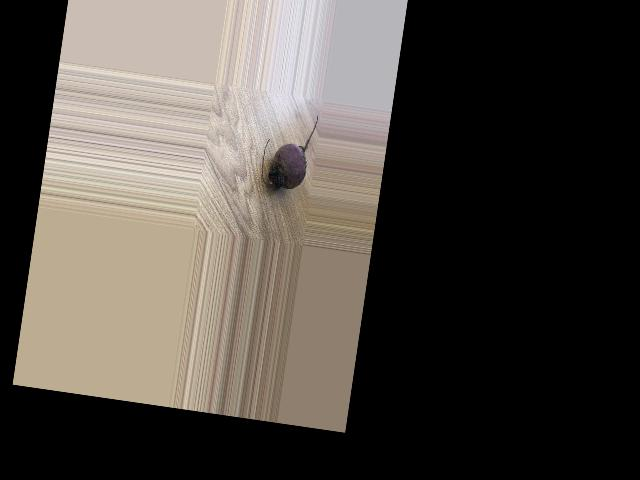beet: (259, 108, 318, 194)
